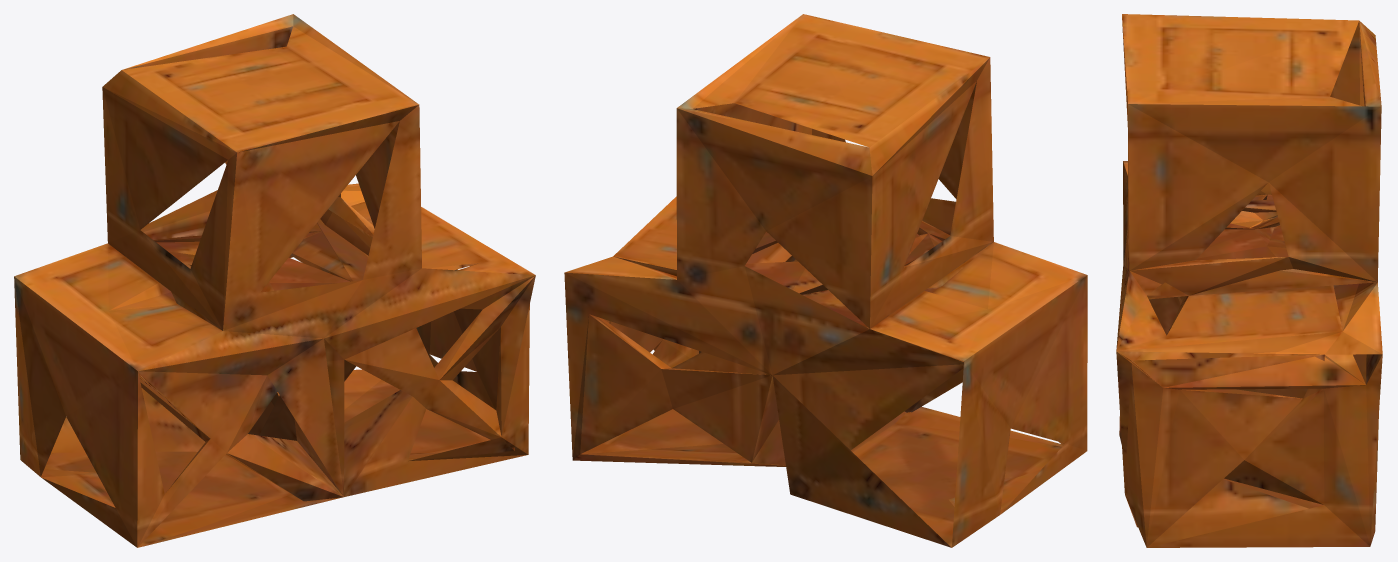
File: crate-stack.glb
3 views of the same model, side by side, from view 1: azimuth 30°, elevation 25°; view 2: azimuth 150°, elevation 25°; view 3: azimuth 270°, elevation 25° (orthographic).
Parts seen in each view (by area): view 1: crate-stack; view 2: crate-stack; view 3: crate-stack.
Boxes of the visible parts, x1,y1,x2,y2 form: crate-stack: [14, 14, 535, 547]; crate-stack: [564, 14, 1087, 547]; crate-stack: [1116, 14, 1382, 547].
Bounding box in the file's own units: 1.74 × 1.6 × 0.9915.
Materials: 1 (1 with a texture image).
